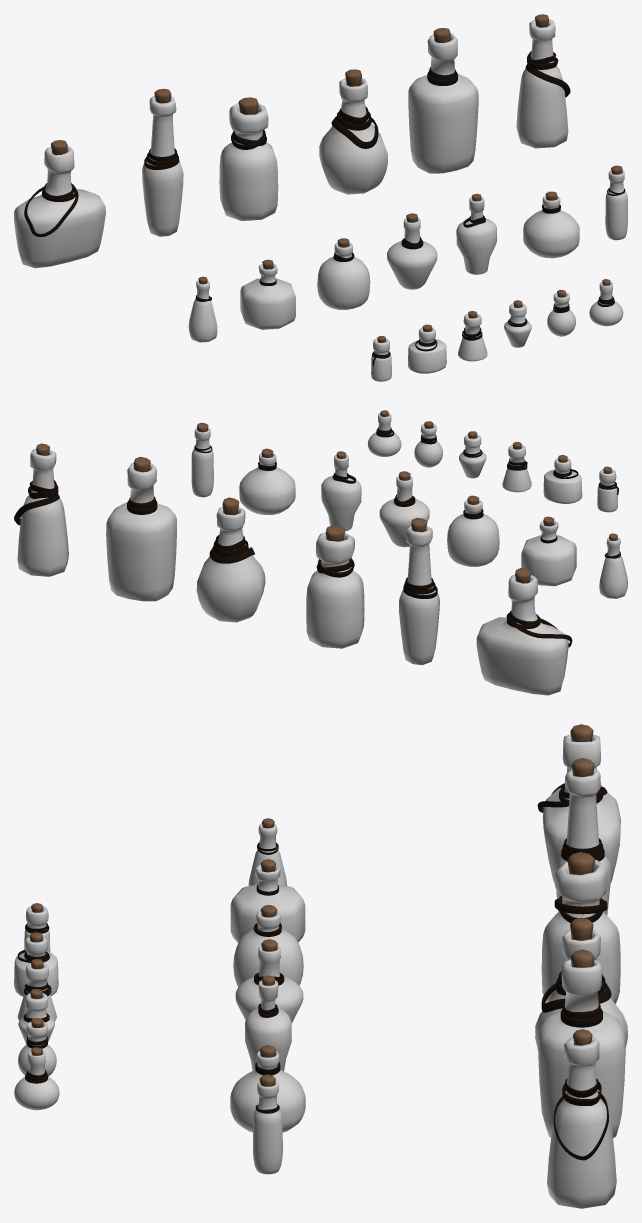
File: potion.obj
3 views of the same model, one above another, from view 1: azimuth 30°, elevation 25°; view 2: azimuth 150°, elevation 25°; view 3: azimuth 270°, elevation 25° (orthographic). The views are drawn at different scales.
Parts seen in each view (by area): view 1: colba_1.014_Cube.077, colba_1.012_Cube.070, colba_1.015_Cube.078, Cube.045_Cube.073, colba_1.013_Cube.074, colba_1.010_Cube.066, Cube.064_Cube.103, Cube.054_Cube.093, Cube.058_Cube.097, Sphere.016, Cube.057_Cube.096, Cube.060_Cube.099 (+10 smaller); view 2: colba_1.014_Cube.077, colba_1.012_Cube.070, colba_1.015_Cube.078, Cube.045_Cube.073, colba_1.013_Cube.074, colba_1.010_Cube.066, Cube.064_Cube.103, Cube.054_Cube.093, Cube.058_Cube.097, Cube.057_Cube.096, Sphere.016, Cube.060_Cube.099 (+12 smaller); view 3: colba_1.013_Cube.074, colba_1.014_Cube.077, colba_1.015_Cube.078, colba_1.012_Cube.070, Cube.064_Cube.103, Cube.058_Cube.097, colba_1.010_Cube.066, Cube.054_Cube.093, Cube.057_Cube.096, Cube.060_Cube.099, Sphere.016, Sphere.014 (+10 smaller).
Part boxes in pixels (left/top/right/bottom): colba_1.014_Cube.077: left=408, top=33, right=478, bottom=173; colba_1.012_Cube.070: left=14, top=146, right=105, bottom=268; colba_1.015_Cube.078: left=219, top=103, right=278, bottom=220; Cube.045_Cube.073: left=319, top=78, right=387, bottom=194; colba_1.013_Cube.074: left=516, top=19, right=568, bottom=148; colba_1.010_Cube.066: left=142, top=95, right=183, bottom=236; Cube.064_Cube.103: left=240, top=264, right=295, bottom=329; Cube.054_Cube.093: left=317, top=242, right=370, bottom=309; Cube.058_Cube.097: left=523, top=195, right=579, bottom=258; Sphere.016: left=387, top=218, right=437, bottom=289; Cube.057_Cube.096: left=456, top=197, right=496, bottom=274; Cube.060_Cube.099: left=605, top=170, right=627, bottom=240; colba_1.014_Cube.077: left=106, top=462, right=176, bottom=601; colba_1.012_Cube.070: left=476, top=574, right=568, bottom=695; colba_1.015_Cube.078: left=306, top=532, right=364, bottom=648; Cube.045_Cube.073: left=196, top=507, right=265, bottom=622; colba_1.013_Cube.074: left=17, top=449, right=68, bottom=576; colba_1.010_Cube.066: left=399, top=525, right=439, bottom=665; Cube.064_Cube.103: left=521, top=520, right=576, bottom=586; Cube.054_Cube.093: left=447, top=500, right=499, bottom=566; Cube.058_Cube.097: left=239, top=453, right=295, bottom=514; Cube.057_Cube.096: left=321, top=454, right=361, bottom=531; Sphere.016: left=379, top=476, right=429, bottom=547; Cube.060_Cube.099: left=191, top=427, right=213, bottom=497; colba_1.013_Cube.074: left=547, top=1036, right=616, bottom=1208; colba_1.014_Cube.077: left=538, top=959, right=625, bottom=1137; colba_1.015_Cube.078: left=541, top=860, right=620, bottom=1003; colba_1.012_Cube.070: left=542, top=734, right=620, bottom=883; Cube.064_Cube.103: left=230, top=864, right=305, bottom=942; Cube.058_Cube.097: left=230, top=1051, right=305, bottom=1132; colba_1.010_Cube.066: left=555, top=767, right=610, bottom=915; Cube.054_Cube.093: left=233, top=910, right=303, bottom=987; Cube.057_Cube.096: left=245, top=980, right=291, bottom=1071; Cube.060_Cube.099: left=253, top=1081, right=282, bottom=1174; Sphere.016: left=235, top=945, right=303, bottom=1022; Sphere.014: left=14, top=1051, right=59, bottom=1110.
Size of the model in its own units: 12.29 by 3.03 by 8.87.
4 materials, 1 textured.
